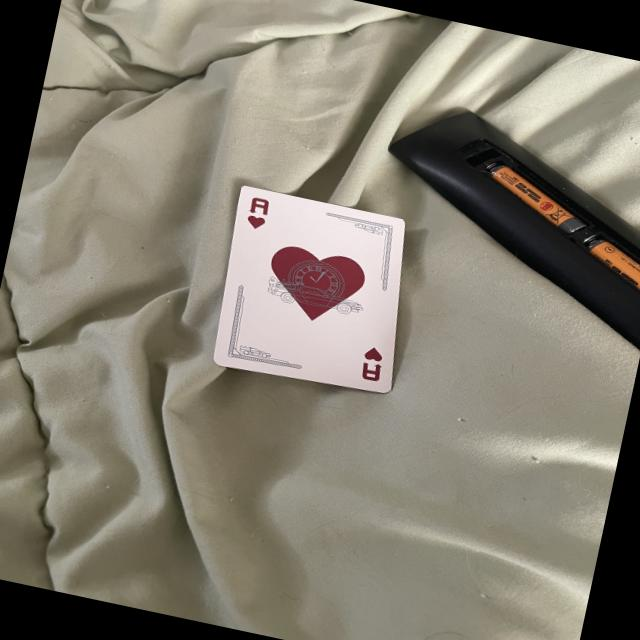Ace of hearts: (214, 187, 407, 394)
